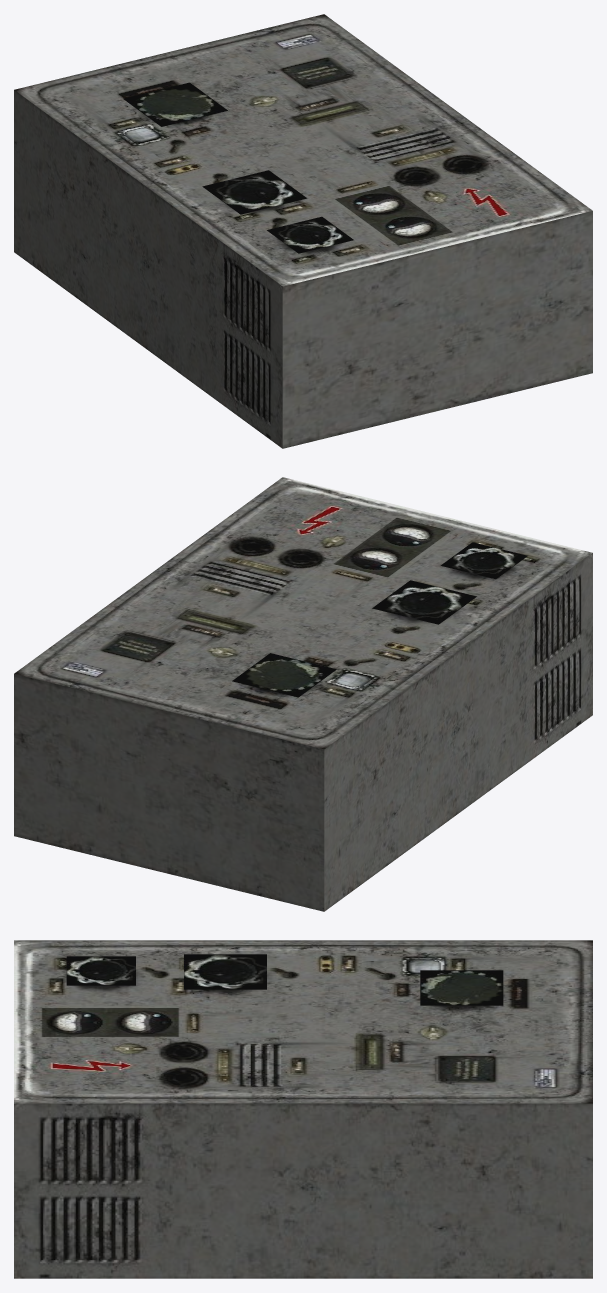
Rendered from military_german_radio1_grey_obj.glb.
The picture shows the model from 3 angles, top to bottom: view 1: azimuth 30°, elevation 25°; view 2: azimuth 150°, elevation 25°; view 3: azimuth 270°, elevation 25°; orthographic projection. The views are drawn at different scales.
Size of the model in its own units: 24.43 by 12.59 by 36.64.
Materials: 3 (3 with a texture image).
